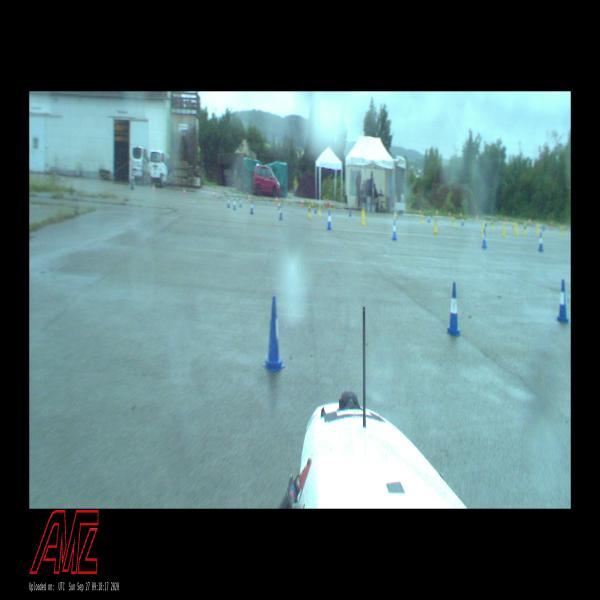blue_cone: (262, 296, 285, 372), (447, 283, 460, 335), (556, 279, 569, 322), (392, 220, 398, 240), (482, 228, 487, 249), (538, 233, 544, 250), (327, 210, 332, 229)
